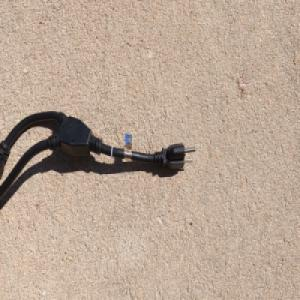Wire: (0, 109, 198, 221)
